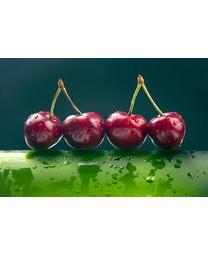cherry: (105, 110, 148, 151), (61, 111, 104, 149), (23, 110, 62, 151), (146, 112, 185, 148)
